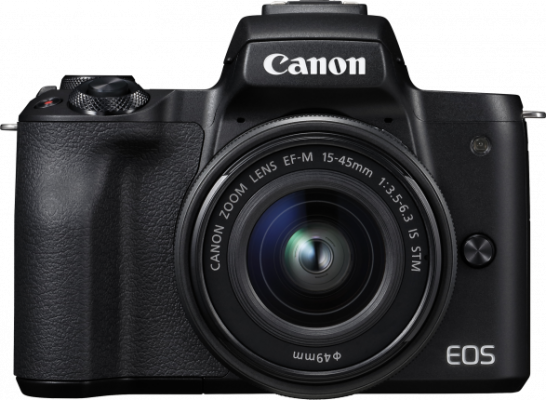kamera: (1, 1, 546, 400)
